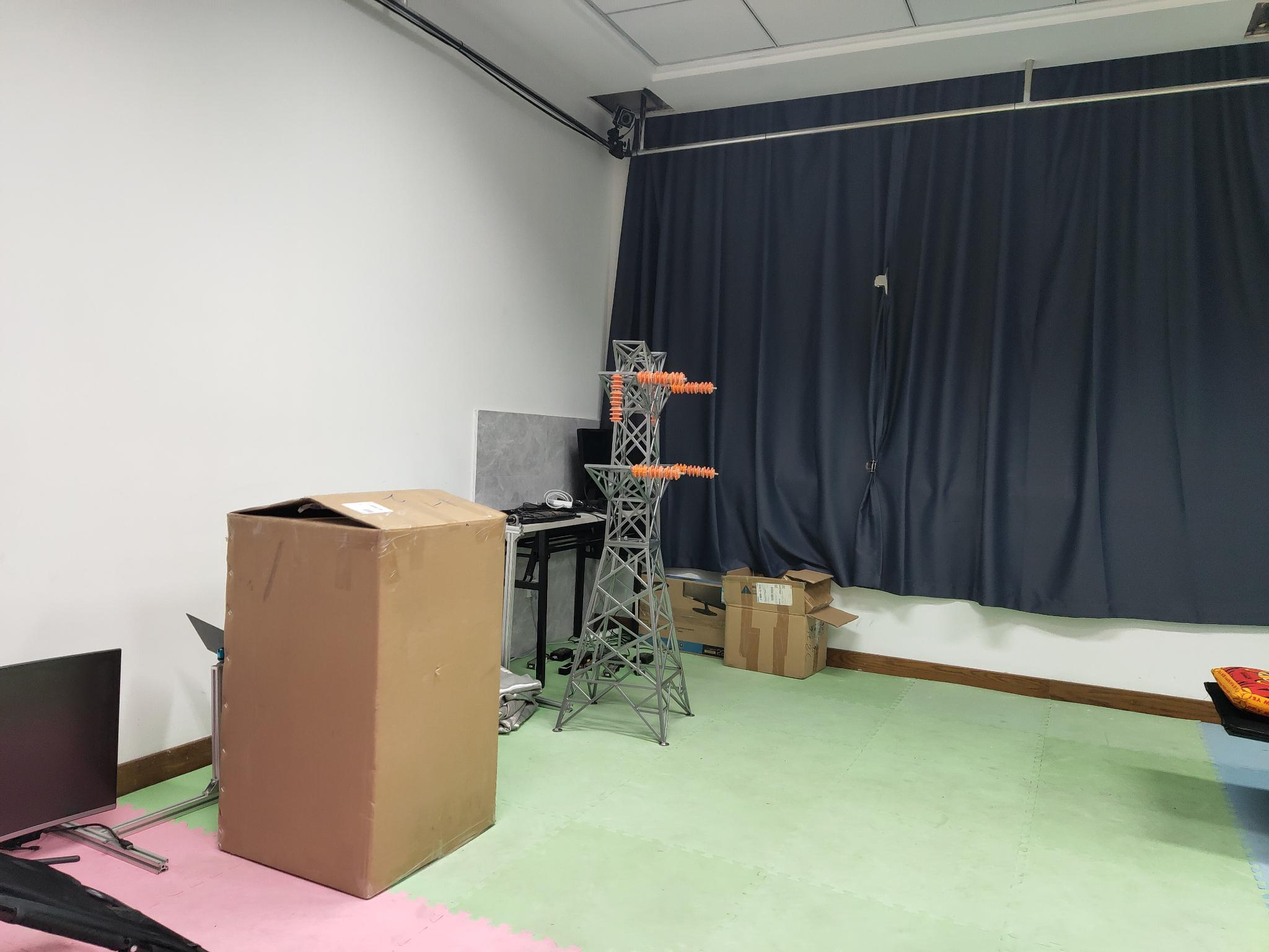tower: (557, 340, 696, 744)
